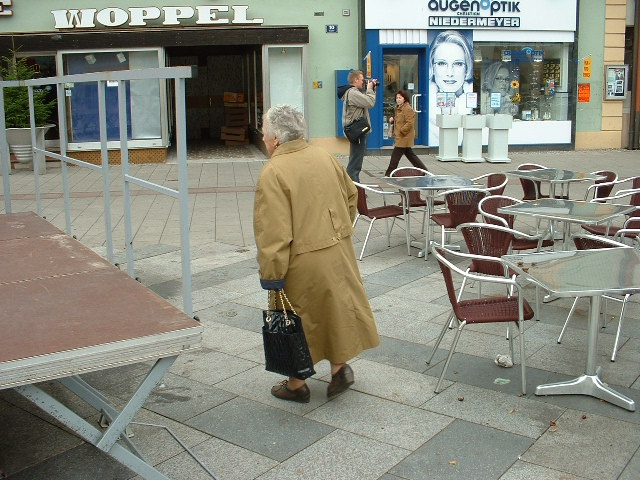person: (252, 106, 378, 402), (338, 70, 375, 187)
